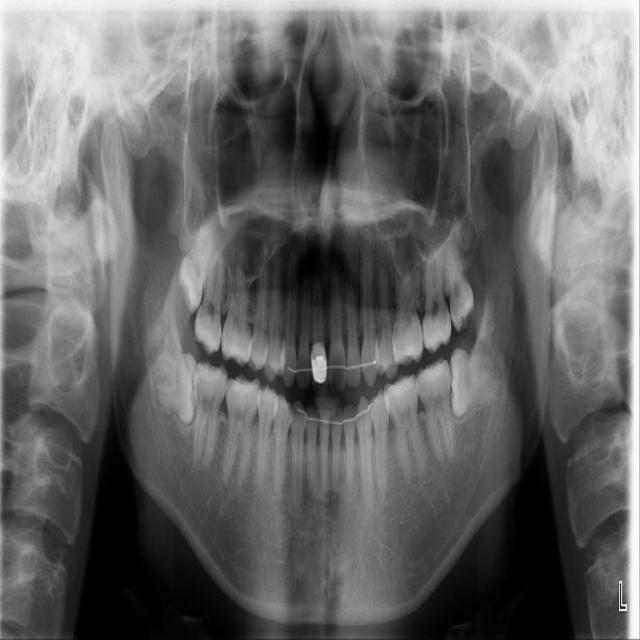Crown: (311, 341, 327, 383)
impacted tooth: (180, 206, 221, 312), (451, 347, 503, 418), (149, 351, 195, 428)
